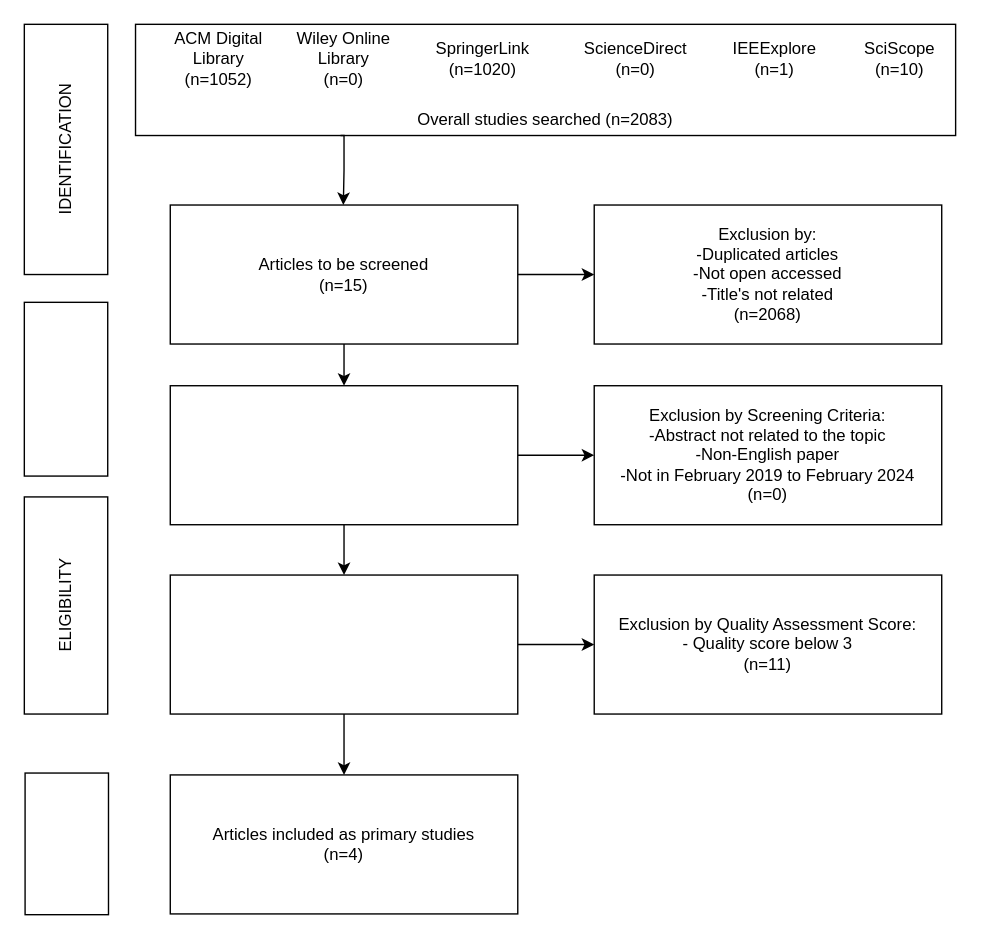
Image size: 994x940. Some labels were removed from this diagram. The centre of each missing label's shape, as x and y in pixels:
"Articles assessed for Quality Assessment (n=4)" goes at point 343,644.
"Articles to be assessed for eligibility (n=15)" goes at point 343,454.
"INCLUDE" goes at point 66,843.
"SCREENING" goes at point 65,388.
